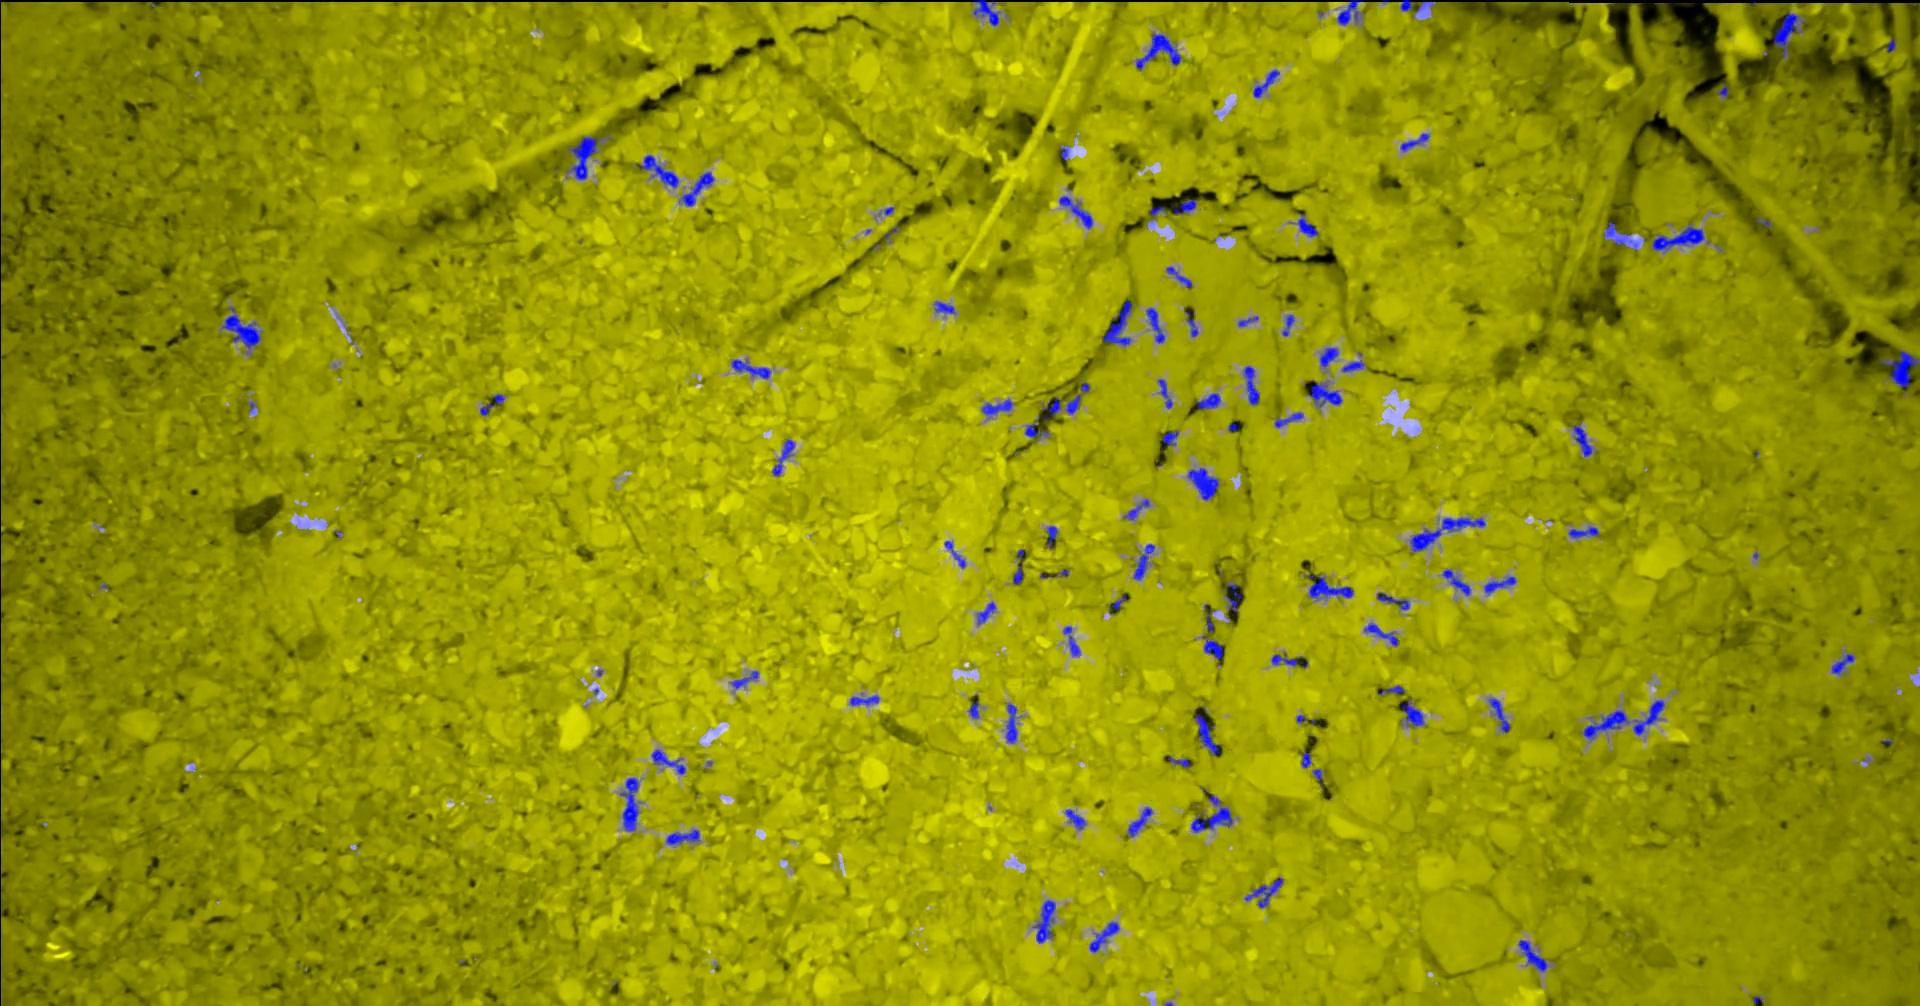ant: (1583, 699, 1666, 739), (1411, 517, 1487, 551), (1192, 791, 1234, 832), (1137, 33, 1183, 69), (223, 306, 262, 348), (1881, 351, 1920, 387), (1026, 398, 1062, 437), (1774, 11, 1804, 57), (1653, 224, 1705, 250), (1103, 298, 1133, 345), (570, 136, 602, 179), (640, 154, 681, 187), (681, 171, 715, 206), (1246, 876, 1284, 907), (1196, 713, 1223, 754), (1309, 574, 1354, 598), (1062, 196, 1095, 227), (621, 777, 640, 831), (1189, 467, 1220, 499), (1034, 899, 1057, 942), (1091, 921, 1121, 951), (1520, 939, 1549, 970), (1309, 380, 1343, 406), (653, 749, 687, 774), (773, 439, 796, 475), (1365, 622, 1399, 645), (1135, 542, 1156, 579), (1255, 69, 1281, 97), (1443, 569, 1472, 594), (733, 359, 771, 379), (1490, 699, 1511, 732), (1605, 221, 1634, 245), (1129, 807, 1153, 836), (1338, 0, 1365, 25), (1147, 307, 1166, 343), (1402, 699, 1425, 727), (1244, 366, 1261, 404), (1484, 575, 1517, 594), (975, 0, 999, 25), (946, 540, 968, 567), (983, 398, 1015, 415), (1575, 424, 1592, 456), (481, 392, 505, 415), (1378, 592, 1411, 608), (731, 669, 759, 688), (1168, 265, 1192, 287), (1832, 653, 1857, 674), (1402, 133, 1431, 151), (1225, 583, 1243, 612), (1126, 499, 1150, 520), (667, 829, 701, 843), (1299, 213, 1319, 236), (1007, 702, 1018, 743), (1159, 379, 1175, 408), (1276, 412, 1305, 427), (1065, 626, 1081, 655), (1067, 809, 1087, 829), (1197, 392, 1222, 409), (1321, 347, 1340, 367), (1205, 639, 1224, 659), (979, 601, 997, 622), (1175, 197, 1197, 213), (1570, 526, 1600, 537), (1272, 654, 1299, 666), (1283, 314, 1297, 335), (851, 695, 880, 705), (1187, 311, 1199, 337), (1067, 394, 1082, 413), (1110, 593, 1129, 608), (1343, 359, 1365, 372), (1170, 754, 1191, 767), (1048, 525, 1059, 547), (935, 301, 956, 312), (1379, 685, 1406, 694), (1163, 431, 1180, 445), (1239, 315, 1258, 326), (1302, 749, 1313, 767), (970, 699, 980, 718), (1150, 205, 1167, 216), (1015, 565, 1023, 584), (1208, 611, 1215, 633), (1402, 0, 1415, 10)
